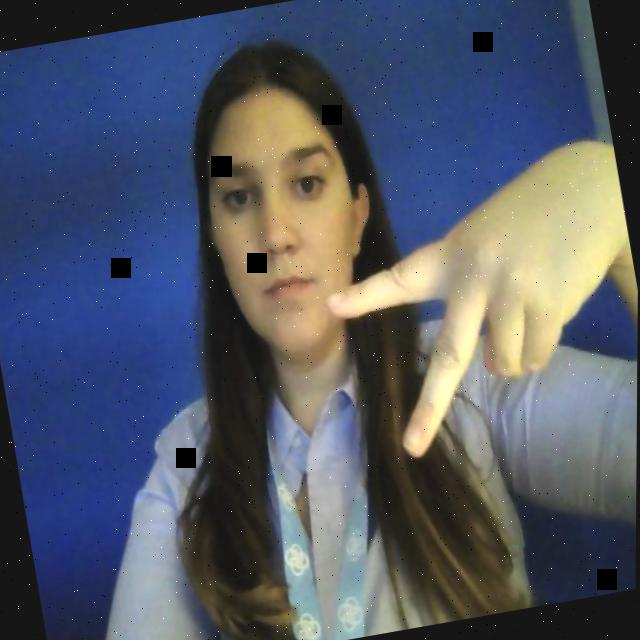Scissors: (287, 124, 639, 481)
